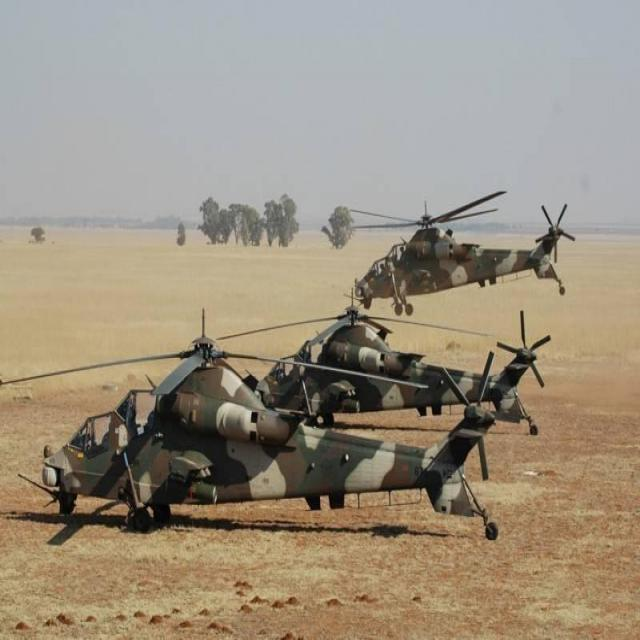MIL_HELO: (0, 293, 533, 582), (183, 264, 567, 450), (298, 191, 601, 328)
